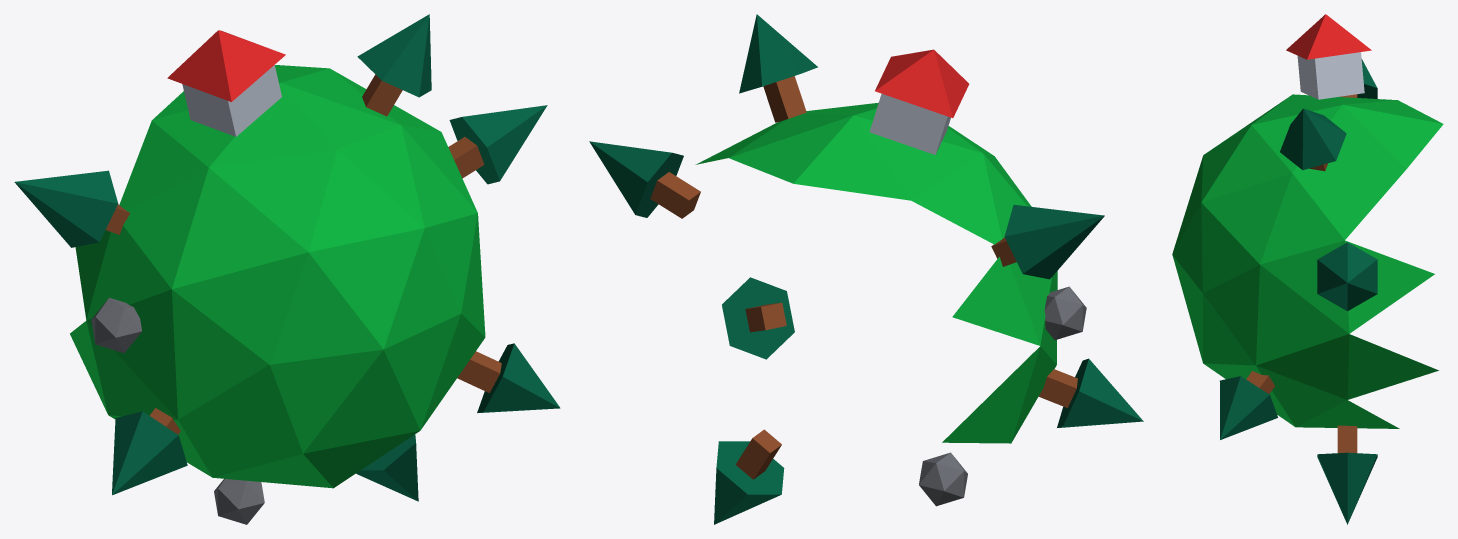
File: meadow.glb
The picture shows the model from 3 angles, left to right: view 1: azimuth 30°, elevation 25°; view 2: azimuth 150°, elevation 25°; view 3: azimuth 270°, elevation 25°; orthographic projection. The views are drawn at different scales.
Parts seen in each view (by area): view 1: Meadow, Pine2, RoofC, Pine3, Pine0, Pine1, House, Pine5, Pine4, Rock1, Rock0, Trunk5 (+2 smaller); view 2: Meadow, Pine2, RoofC, Pine0, Pine4, Pine5, Pine3, Pine1, House, Rock0, Rock1, Trunk0 (+4 smaller); view 3: Meadow, Pine0, Pine1, House, Pine5, Pine4, RoofC, Trunk4, Pine2, Trunk5.
Part boxes in pixels (bbox=[...]): Meadow: bbox=[70, 65, 485, 488]; Pine2: bbox=[14, 170, 118, 247]; RoofC: bbox=[167, 30, 285, 101]; Pine3: bbox=[112, 411, 187, 495]; Pine0: bbox=[449, 105, 547, 184]; Pine1: bbox=[357, 14, 431, 97]; House: bbox=[182, 65, 281, 136]; Pine5: bbox=[477, 343, 560, 413]; Pine4: bbox=[356, 434, 418, 501]; Rock1: bbox=[91, 297, 141, 353]; Rock0: bbox=[214, 479, 264, 524]; Trunk5: bbox=[457, 351, 501, 392]; Meadow: bbox=[695, 102, 1057, 443]; Pine2: bbox=[1004, 204, 1104, 279]; RoofC: bbox=[875, 49, 969, 117]; Pine0: bbox=[589, 141, 683, 217]; Pine4: bbox=[714, 441, 784, 524]; Pine5: bbox=[722, 277, 794, 359]; Pine3: bbox=[1057, 358, 1143, 427]; Pine1: bbox=[739, 14, 817, 93]; House: bbox=[869, 94, 950, 154]; Rock0: bbox=[919, 452, 967, 506]; Rock1: bbox=[1044, 286, 1086, 340]; Trunk0: bbox=[650, 172, 700, 218]; Meadow: bbox=[1172, 94, 1443, 428]; Pine0: bbox=[1317, 242, 1377, 311]; Pine1: bbox=[1280, 108, 1346, 170]; House: bbox=[1297, 52, 1364, 99]; Pine5: bbox=[1219, 376, 1277, 439]; Pine4: bbox=[1317, 452, 1377, 524]; RoofC: bbox=[1286, 14, 1371, 59]; Trunk4: bbox=[1337, 425, 1357, 453]; Pine2: bbox=[1357, 59, 1377, 98]; Trunk5: bbox=[1246, 371, 1274, 393].
Bounding box in the file's own units: 4.26 × 4.07 × 2.34.
